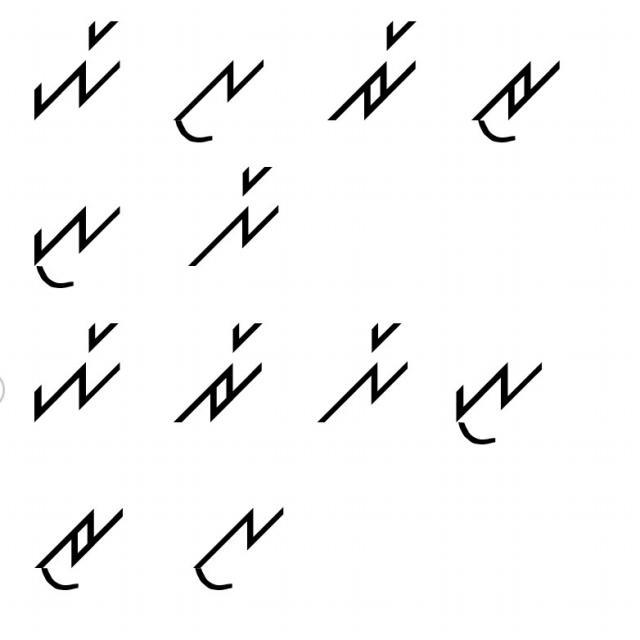lar: (174, 164, 286, 273), (310, 314, 417, 426)
law: (160, 46, 269, 150), (186, 503, 299, 603)
rar: (173, 314, 278, 439), (323, 10, 423, 127)
raw: (454, 40, 571, 152), (23, 498, 128, 602)
yar: (30, 0, 133, 118), (22, 318, 125, 430)
yaw: (443, 350, 553, 454), (22, 198, 126, 296)
